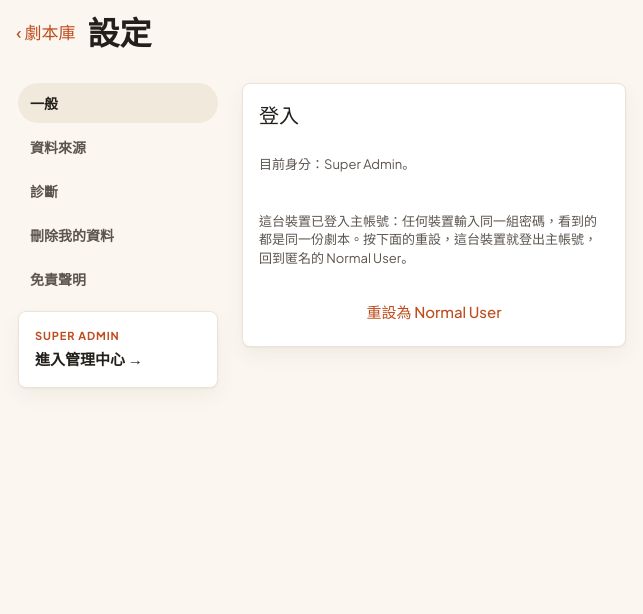
OG-11（#322）：桌面版左側 subnav（手機版單欄堆疊零改動） › 桌面：點「資料來源」分頁換成顯示 Data / API，登入區塊跟著隱藏
expect the navigation bar is shown: met, box [18,83,218,299]
Click the tab "資料來源" at (118,147), box [18,127,218,167]
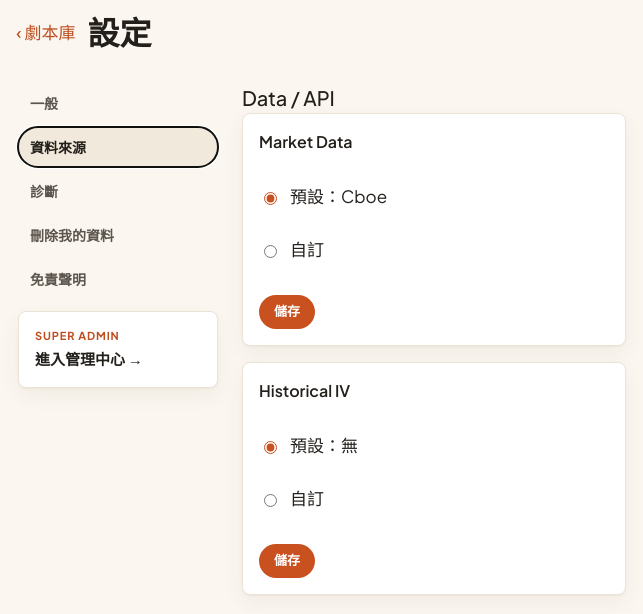
expect the heading "Data / API" is shown: met, box [242,85,335,110]
expect the text "目前身分：" is gone: met
